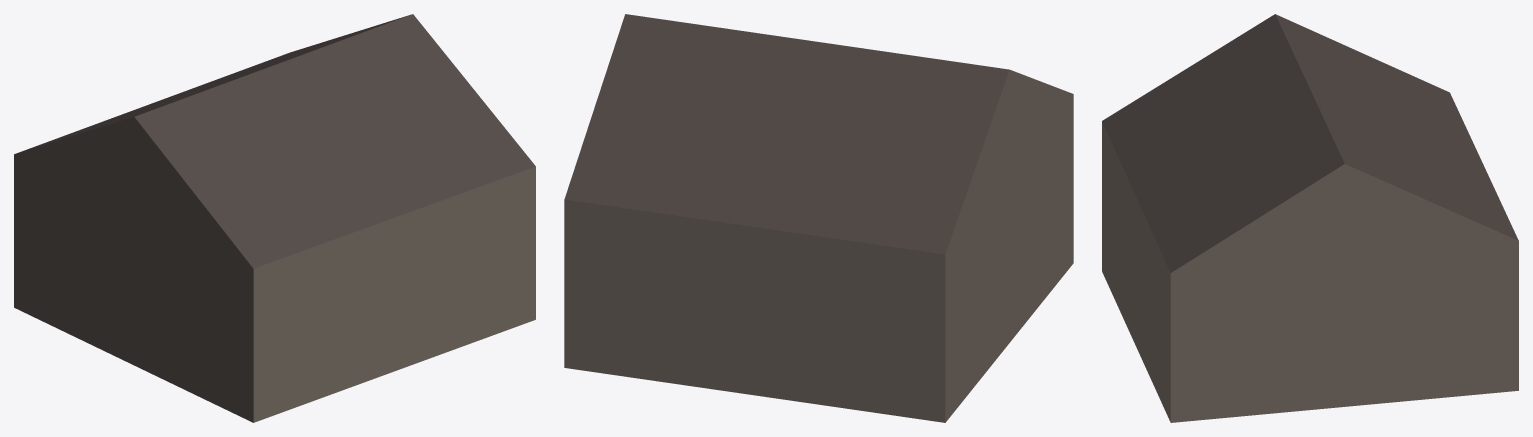
3 renders of one model, left to right at view 1: azimuth 30°, elevation 25°; view 2: azimuth 150°, elevation 25°; view 3: azimuth 270°, elevation 25°, orthographic. The views are drawn at different scales.
Parts seen in each view (by area): view 1: HP-w682223756; view 2: HP-w682223756; view 3: HP-w682223756.
Part boxes in pixels (x1,y1,x2,y2): HP-w682223756: (14,14,535,422); HP-w682223756: (564,14,1073,422); HP-w682223756: (1102,14,1518,422).
Size of the model in its own units: 15.52 by 9.73 by 15.13.
